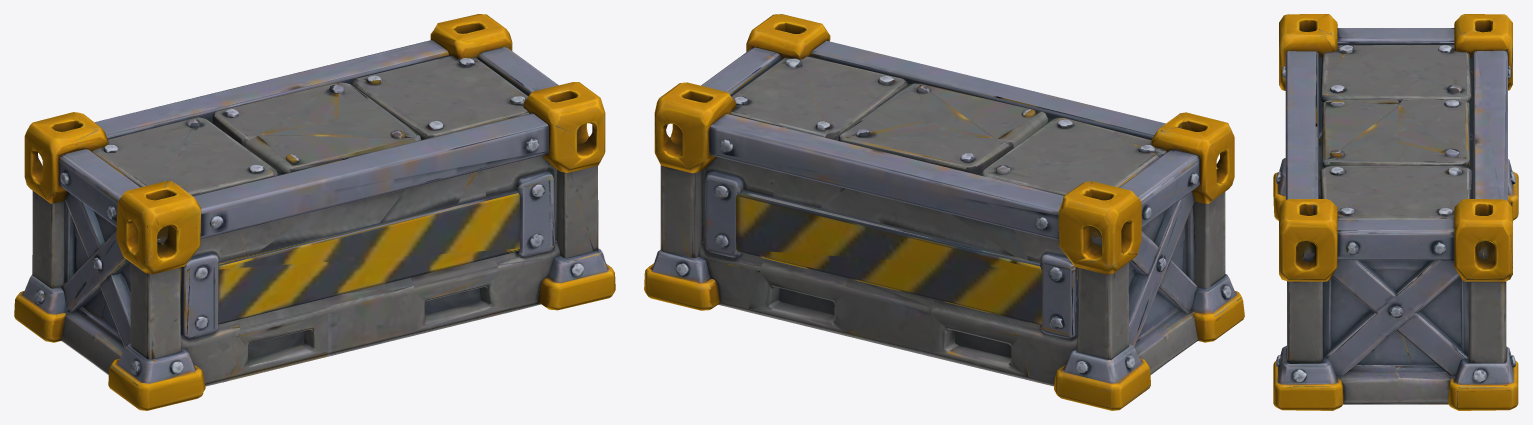
File: steel_crate.glb
3 views of the same model, side by side, from view 1: azimuth 30°, elevation 25°; view 2: azimuth 150°, elevation 25°; view 3: azimuth 270°, elevation 25° (orthographic). The views are drawn at different scales.
Size of what is drawn, in the model's own units: 2.54 by 0.9999 by 1.2.
Materials: 1 (1 with a texture image).
